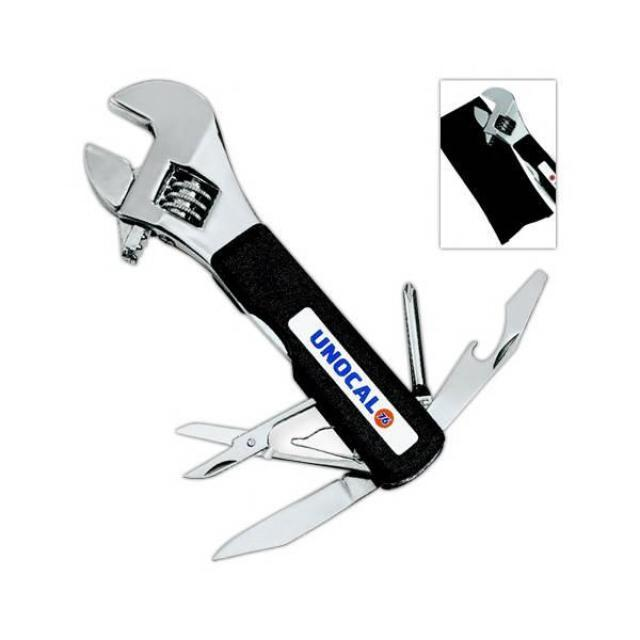wrench: (73, 67, 424, 461), (466, 76, 560, 186)
